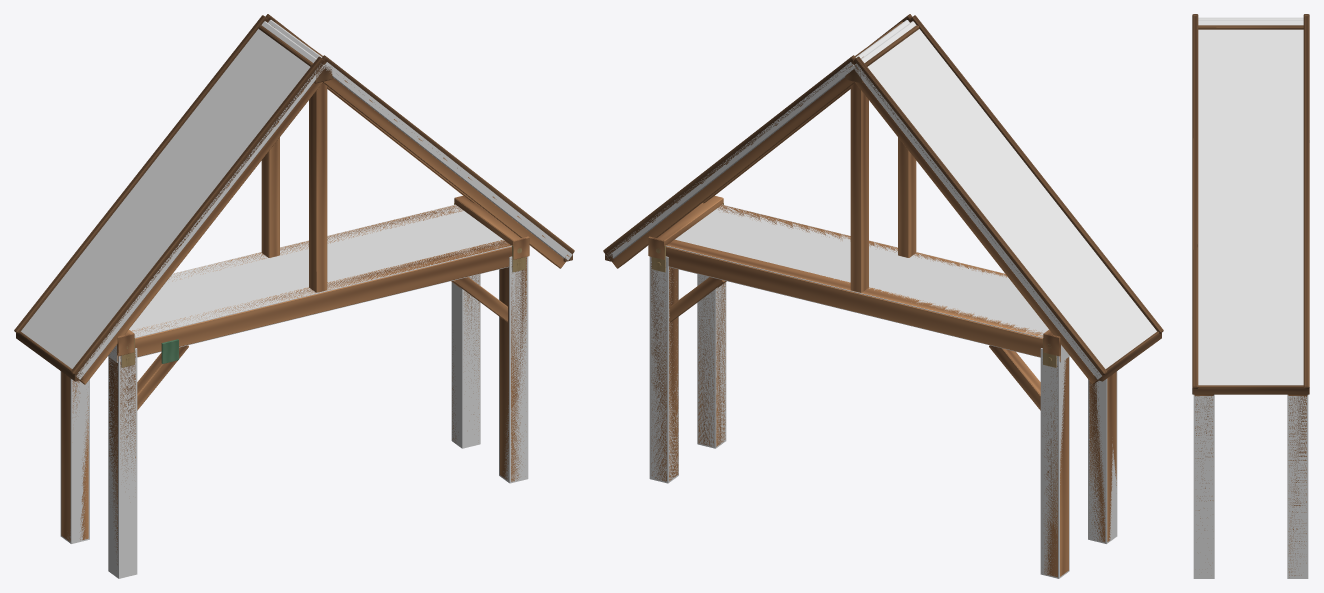
Rendered from town_building_a_frame_bay_v01.fbx.
3 renders of one model, left to right at view 1: azimuth 30°, elevation 25°; view 2: azimuth 150°, elevation 25°; view 3: azimuth 270°, elevation 25°, orthographic.
Parts seen in each view (by area): view 1: LOD0_Static, COL_Roof_-1, COL_TieBeam, COL_Post_-1.9-0.4, COL_Post_1.90.4, COL_Post_1.9-0.4, COL_Post_-1.90.4, COL_Roof_1; view 2: LOD0_Static, COL_Roof_-1, COL_TieBeam, COL_Post_1.90.4, COL_Post_1.9-0.4, COL_Post_-1.90.4, COL_Post_-1.9-0.4, COL_Roof_1, LOD1_Static; view 3: COL_Roof_1, LOD0_Static, COL_Post_1.9-0.4, COL_Post_1.90.4, LOD1_Static, COL_Roof_-1, LOD2_Static.
Boxes of the visible parts, left/top/right/bottom form: LOD0_Static: left=14, top=14, right=574, bottom=564; COL_Roof_-1: left=21, top=21, right=325, bottom=379; COL_TieBeam: left=108, top=204, right=511, bottom=362; COL_Post_-1.9-0.4: left=108, top=348, right=137, bottom=578; COL_Post_1.90.4: left=451, top=274, right=480, bottom=448; COL_Post_1.9-0.4: left=499, top=256, right=528, bottom=483; COL_Post_-1.90.4: left=60, top=371, right=89, bottom=543; COL_Roof_1: left=268, top=20, right=572, bottom=260; LOD0_Static: left=603, top=14, right=1163, bottom=577; COL_Roof_-1: left=853, top=21, right=1156, bottom=379; COL_TieBeam: left=666, top=204, right=1069, bottom=362; COL_Post_1.90.4: left=649, top=256, right=678, bottom=483; COL_Post_1.9-0.4: left=697, top=274, right=726, bottom=448; COL_Post_-1.90.4: left=1040, top=348, right=1069, bottom=578; COL_Post_-1.9-0.4: left=1088, top=371, right=1117, bottom=543; COL_Roof_1: left=605, top=20, right=909, bottom=259; LOD1_Static: left=617, top=14, right=1163, bottom=395; COL_Roof_1: left=1198, top=20, right=1303, bottom=385; LOD0_Static: left=1192, top=14, right=1309, bottom=577; COL_Post_1.9-0.4: left=1193, top=394, right=1214, bottom=578; COL_Post_1.90.4: left=1287, top=394, right=1308, bottom=578; LOD1_Static: left=1192, top=14, right=1309, bottom=388; COL_Roof_-1: left=1198, top=17, right=1303, bottom=20; LOD2_Static: left=1192, top=14, right=1309, bottom=387.
Bounding box in the file's own units: 4.88 × 4.38 × 1.
3 materials, 3 textured.
